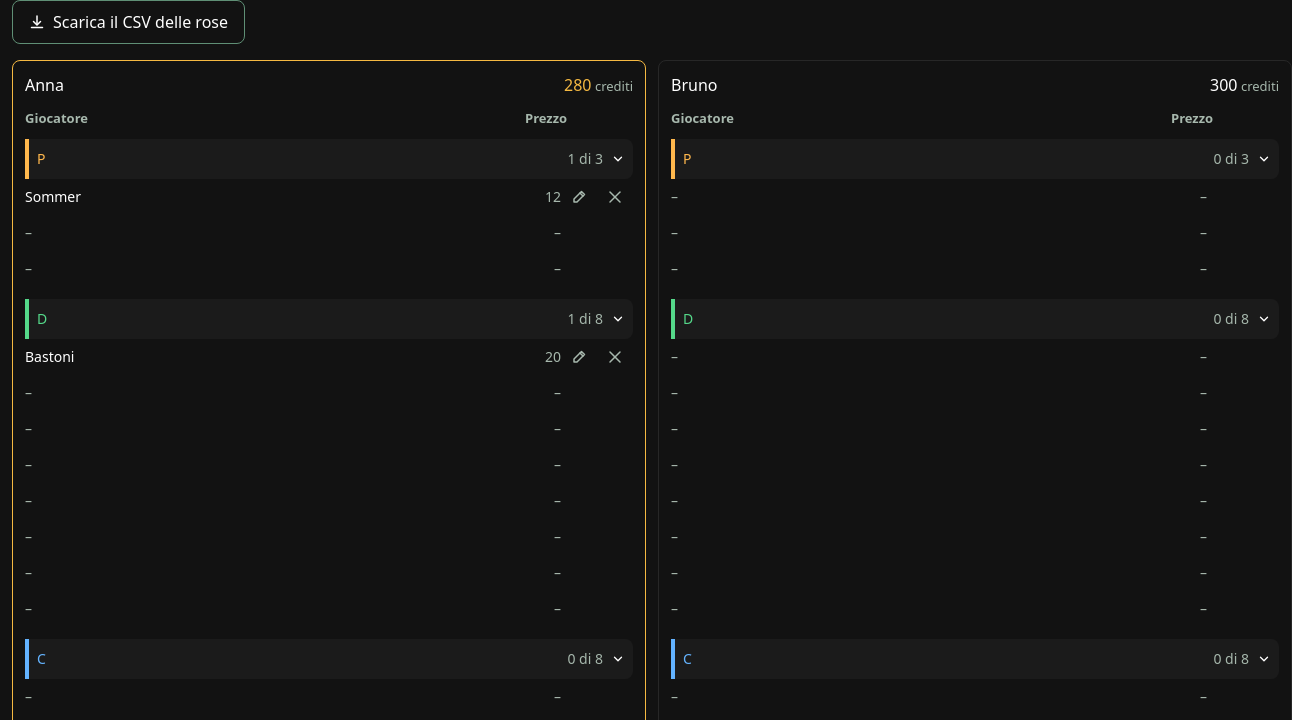
Test: RosterGrid › distingue i due rifiuti della revoca
The image size is (1292, 720).
Step 1. Click the button named "annulla l'acquisto di bastoni" → (615, 357), box [597,339,633,375]
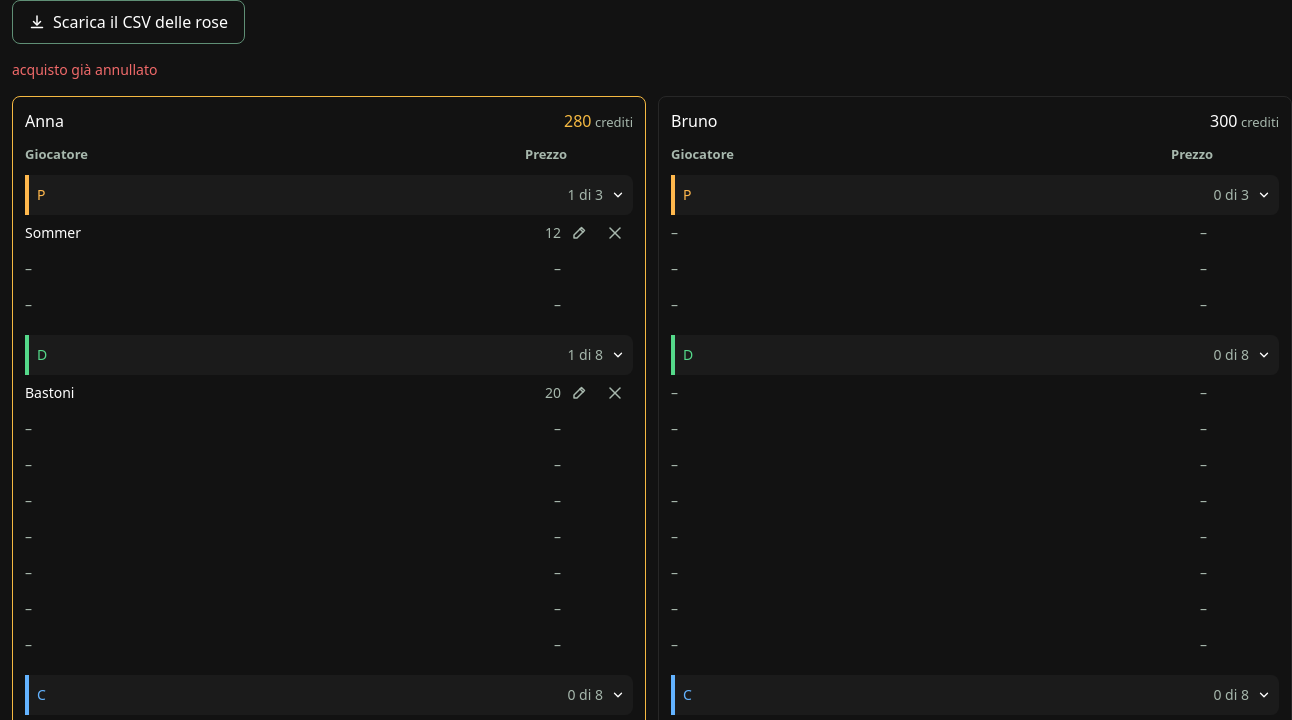
Expected: the number of messages is 1, [12,60,158,79]
Expected: the message shows "già annullato", [12,60,158,79]
